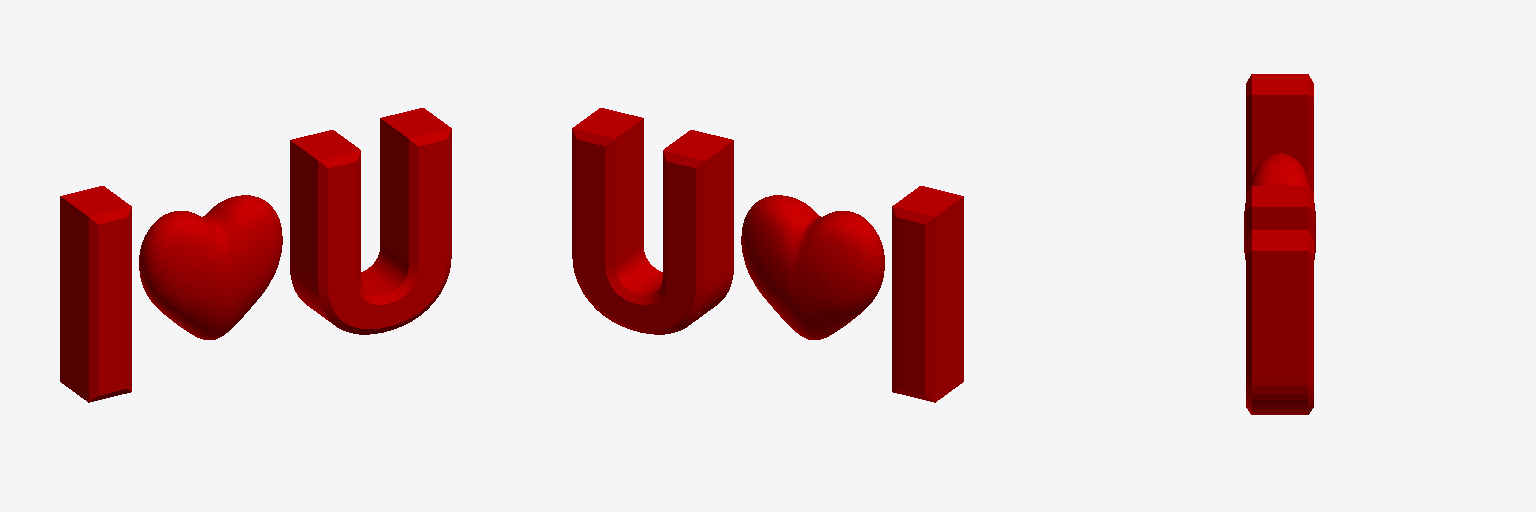
File: I_Heart_U.obj
The picture shows the model from 3 angles: view 1: azimuth 30°, elevation 25°; view 2: azimuth 150°, elevation 25°; view 3: azimuth 270°, elevation 25°; orthographic projection.
Parts seen in each view (by area): view 1: IheartU; view 2: IheartU; view 3: IheartU.
Boxes of the visible parts, <box> form: IheartU: <box>60,108,451,402</box>; IheartU: <box>572,108,963,402</box>; IheartU: <box>1244,74,1315,414</box>.
Bounding box in the file's own units: 7.76 × 3.83 × 1.34.